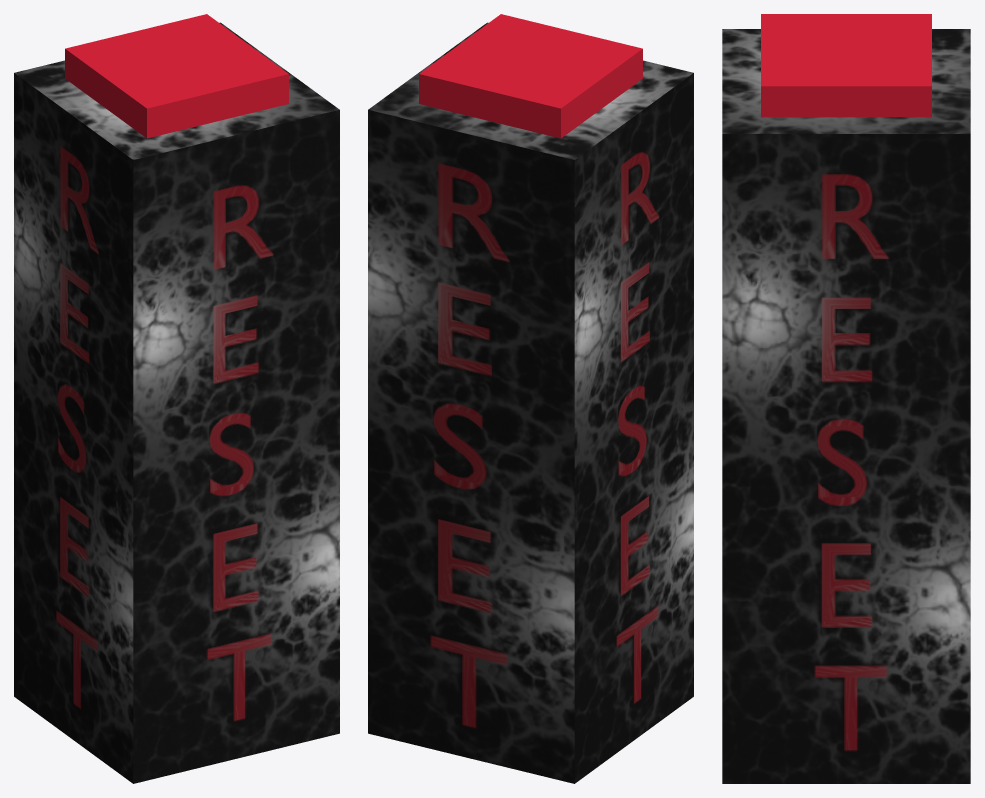
File: resetbutton.glb
The picture shows the model from 3 angles, left to right: view 1: azimuth 30°, elevation 25°; view 2: azimuth 150°, elevation 25°; view 3: azimuth 270°, elevation 25°; orthographic projection. The views are drawn at different scales.
Parts seen in each view (by area): view 1: RESET; view 2: RESET; view 3: RESET.
Boxes of the visible parts, box(x1,y1,x2,y2) form: RESET: box(14, 14, 339, 783); RESET: box(368, 14, 693, 783); RESET: box(722, 14, 970, 783).
Size of what is drawn, in the model's own units: 0.2869 by 0.8682 by 0.2869.
Materials: 2 (1 with a texture image).
